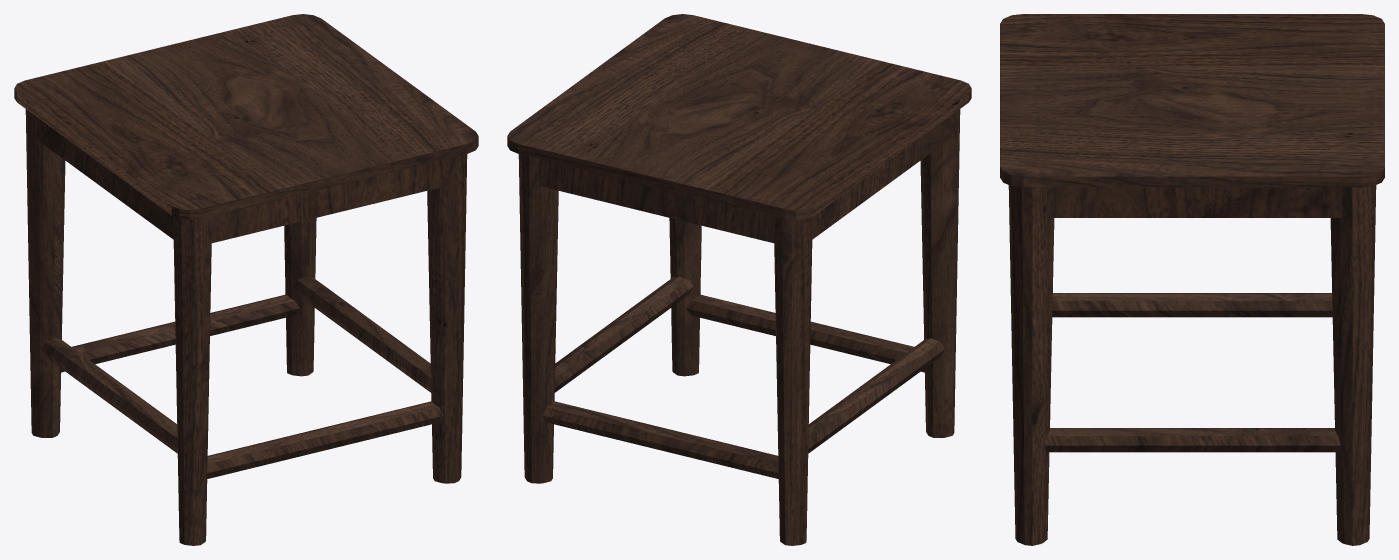
Rendered from Stool.glb.
The picture shows the model from 3 angles, left to right: view 1: azimuth 30°, elevation 25°; view 2: azimuth 150°, elevation 25°; view 3: azimuth 270°, elevation 25°; orthographic projection. The views are drawn at different scales.
Parts seen in each view (by area): view 1: табурет; view 2: табурет; view 3: табурет.
Boxes of the visible parts, x1,y1,x2,y2 form: табурет: (14,14,478,545); табурет: (507,14,971,545); табурет: (1000,14,1384,545).
Bounding box in the file's own units: 0.4312 × 0.4646 × 0.4312.
1 material, 1 textured.
